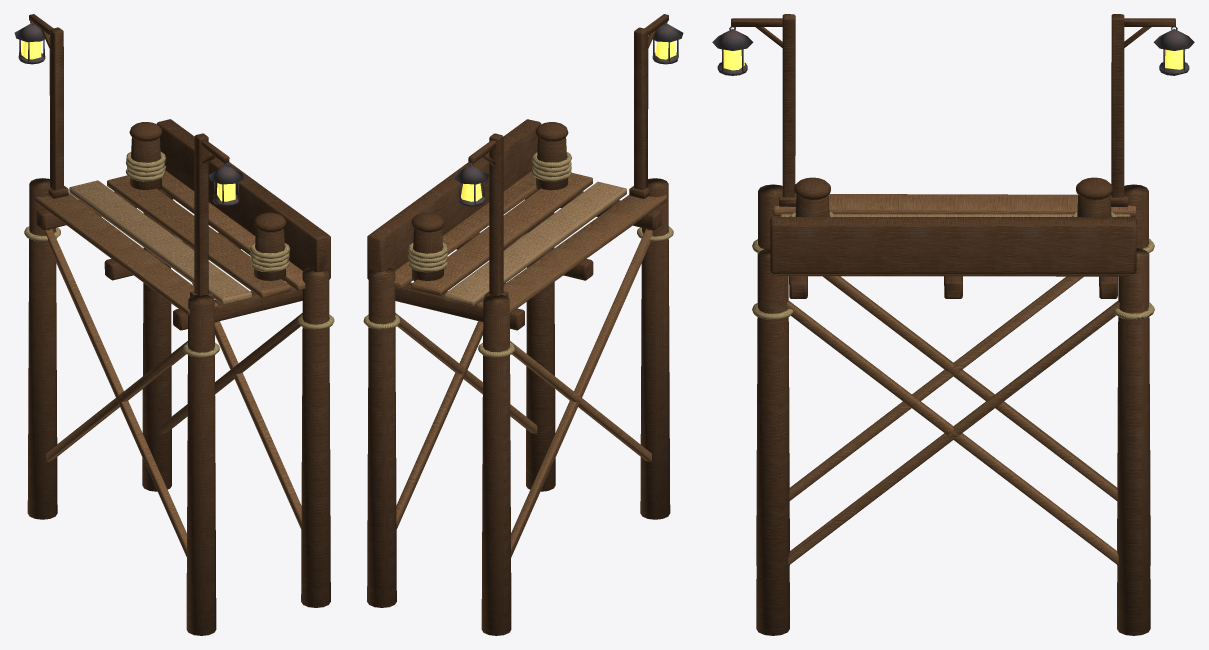
The model's file is pier_end.glb.
3 renders of one model, left to right at view 1: azimuth 30°, elevation 25°; view 2: azimuth 150°, elevation 25°; view 3: azimuth 270°, elevation 25°, orthographic. The views are drawn at different scales.
Visible parts, largest first — view 1: pier_end_Wood_Dark, pier_end_Wood_Plank, pier_end_Wood_Light, pier_end_Rope, pier_end_Metal, pier_end_Glow_Warm; view 2: pier_end_Wood_Dark, pier_end_Wood_Plank, pier_end_Wood_Light, pier_end_Rope, pier_end_Metal, pier_end_Glow_Warm; view 3: pier_end_Wood_Dark, pier_end_Wood_Plank, pier_end_Metal, pier_end_Rope, pier_end_Wood_Light, pier_end_Glow_Warm.
Boxes of the visible parts, x1,y1,x2,y2 form: pier_end_Wood_Dark: (27, 14, 330, 635); pier_end_Wood_Plank: (34, 171, 305, 556); pier_end_Wood_Light: (69, 180, 251, 305); pier_end_Rope: (24, 151, 334, 357); pier_end_Metal: (14, 21, 243, 206); pier_end_Glow_Warm: (21, 41, 235, 201); pier_end_Wood_Dark: (367, 14, 670, 635); pier_end_Wood_Plank: (394, 171, 666, 557); pier_end_Wood_Light: (444, 181, 626, 306); pier_end_Rope: (363, 152, 673, 357); pier_end_Metal: (454, 21, 683, 206); pier_end_Glow_Warm: (461, 41, 676, 201); pier_end_Wood_Dark: (731, 14, 1175, 635); pier_end_Wood_Plank: (773, 194, 1136, 565); pier_end_Metal: (712, 26, 1194, 75); pier_end_Rope: (752, 211, 1154, 320); pier_end_Wood_Light: (780, 214, 1130, 216); pier_end_Glow_Warm: (723, 49, 1183, 70).
Bounding box in the file's own units: 2.05 × 6.5 × 5.14.
Materials: 6 (5 with a texture image).
